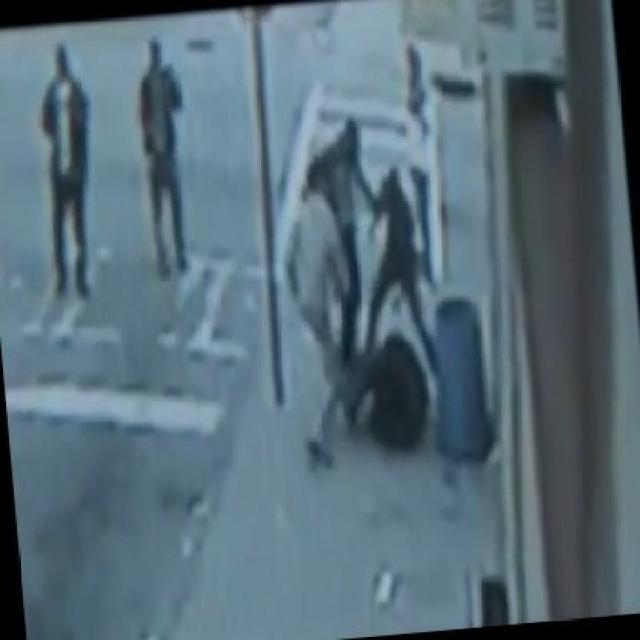fight: (286, 163, 465, 477)
non-fight: (11, 42, 123, 316)
